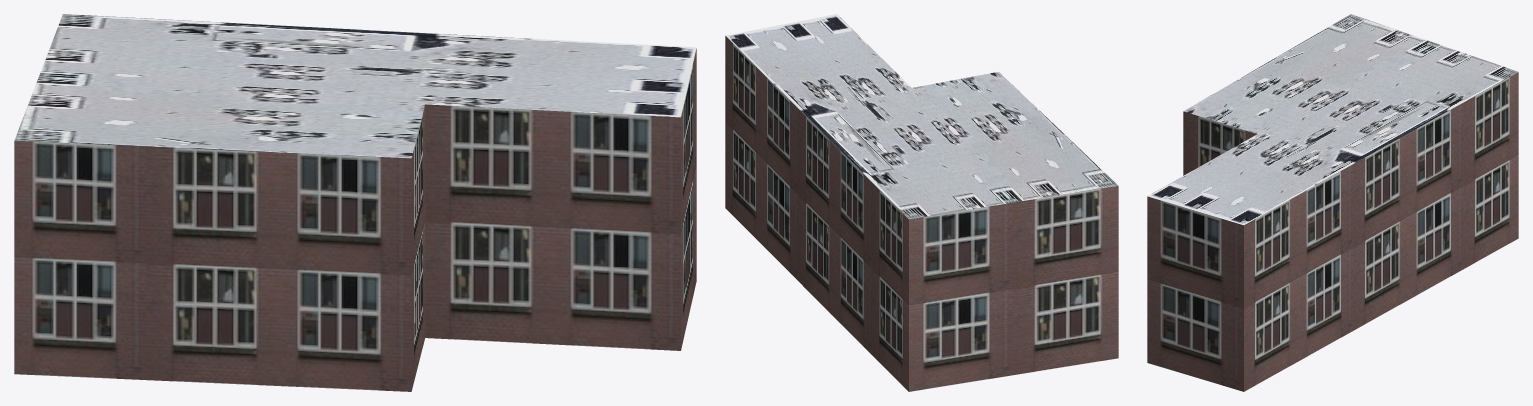
Rendered from ResTex__324.fbx.
3 renders of one model, left to right at view 1: azimuth 30°, elevation 25°; view 2: azimuth 150°, elevation 25°; view 3: azimuth 270°, elevation 25°, orthographic. The views are drawn at different scales.
Visible parts, largest first — view 1: CityEngineMaterial_12_m, CityEngineMaterial_2_m; view 2: CityEngineMaterial_12_m, CityEngineMaterial_2_m; view 3: CityEngineMaterial_12_m, CityEngineMaterial_2_m.
Boxes of the visible parts, x1,y1,x2,y2 form: CityEngineMaterial_12_m: (14,48,696,391); CityEngineMaterial_2_m: (14,14,696,158); CityEngineMaterial_12_m: (725,36,1118,391); CityEngineMaterial_2_m: (726,14,1117,219); CityEngineMaterial_12_m: (1147,72,1518,391); CityEngineMaterial_2_m: (1147,14,1518,225).
Bounding box in the file's own units: 16.33 × 6 × 12.13.
2 materials, 2 textured.
